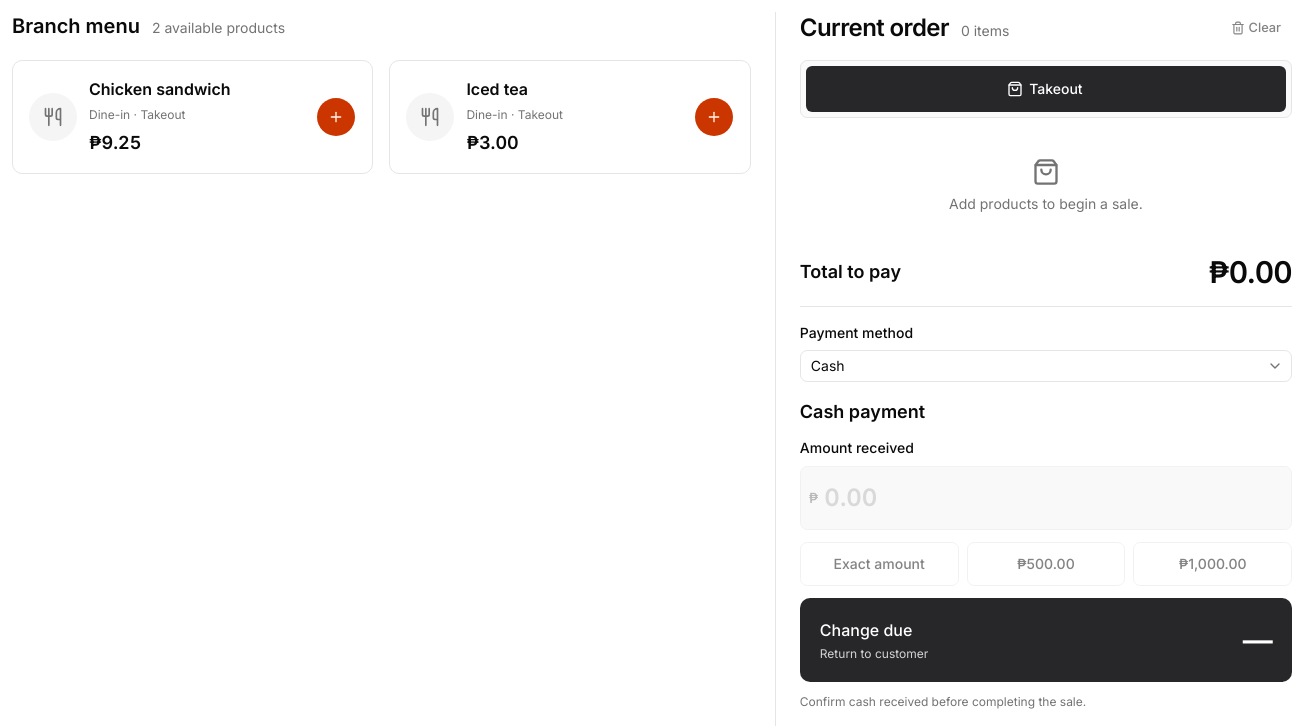
Test: POS checkout › builds a cart and estimates totals with exact decimal arithmetic
The width and height of the screenshot is (1304, 726).
Click the button named "Add Chicken sandwich" at (336, 117), box [316,97,356,137]
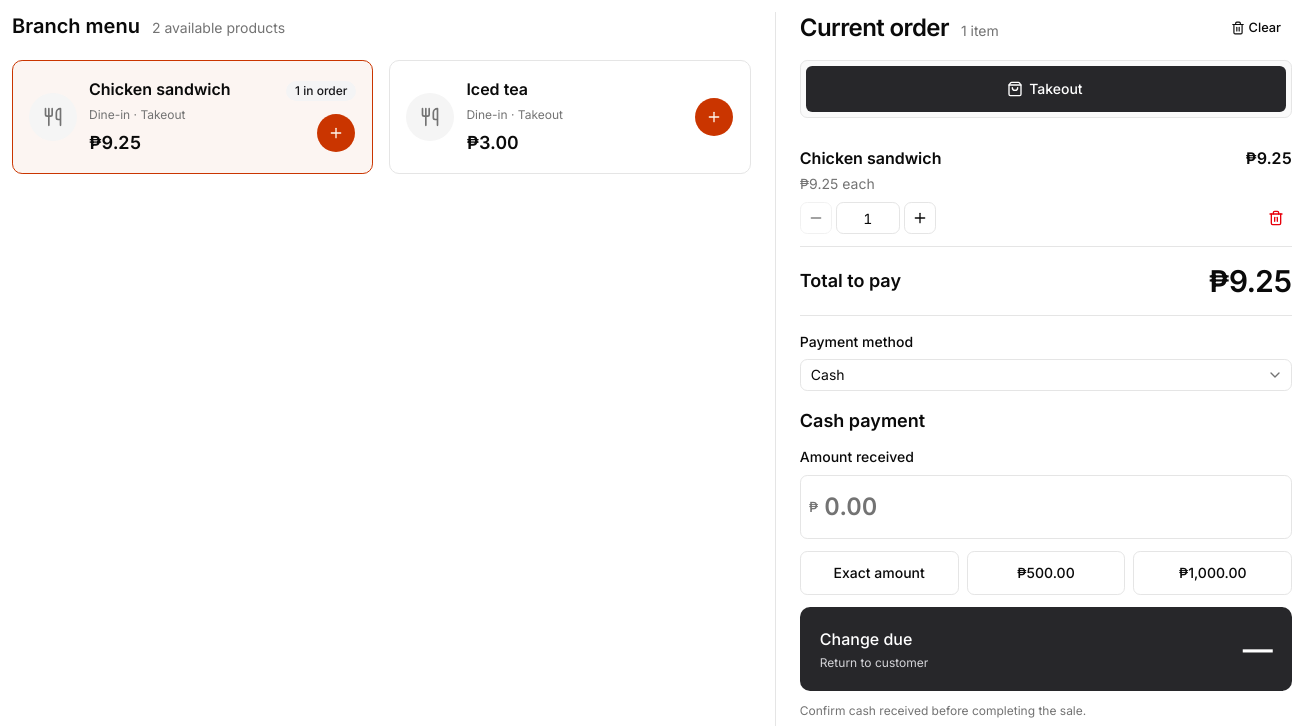
Click the button named "Add Iced tea" at (714, 117), box [694,97,734,137]
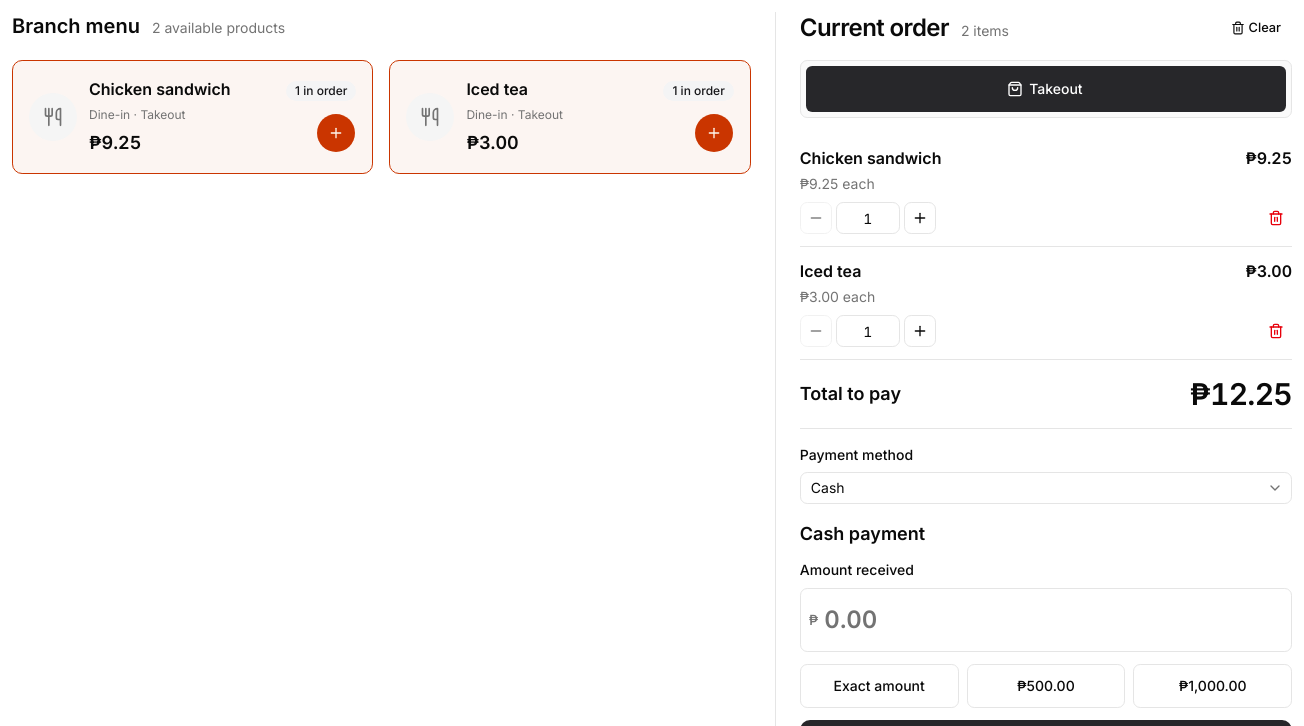
Replace the text in the field named "Quantity for Chicken sandwich" with "0.5" at (868, 218), box [836,202,900,234]
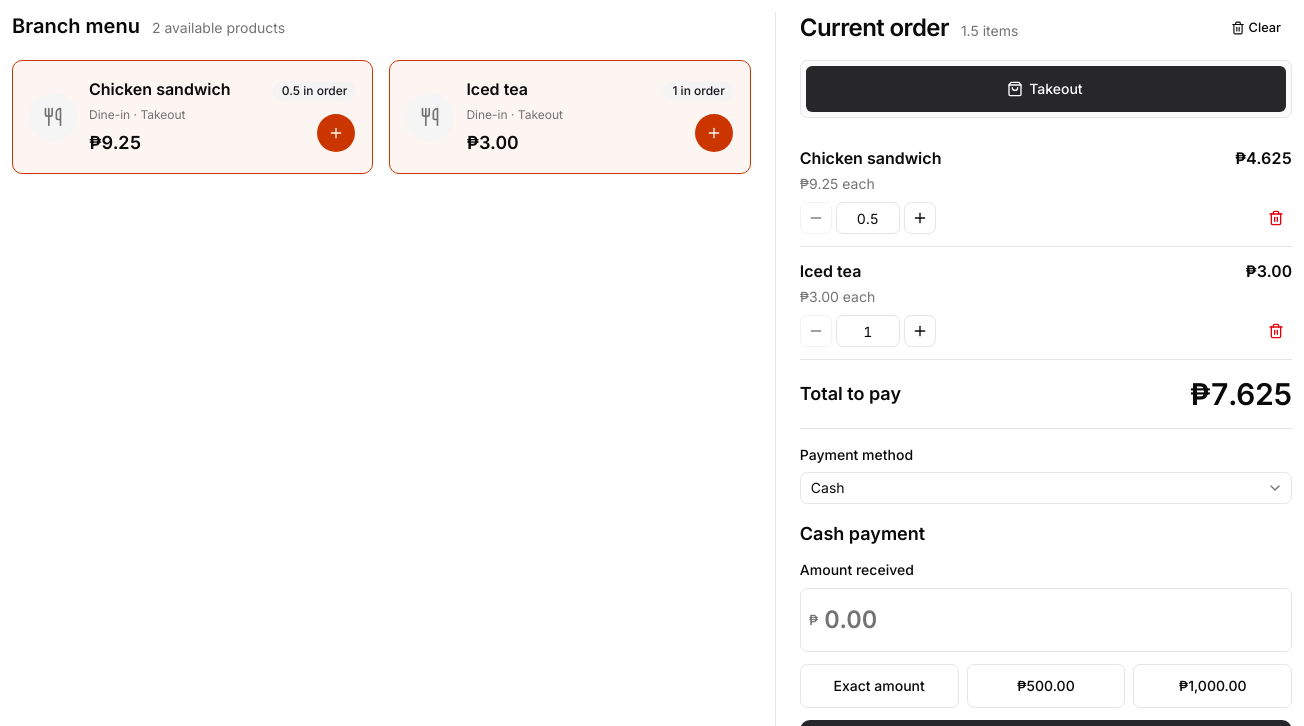
Expected: the text named "Estimated total" reads "₱7.625", [1190,376,1292,412]
